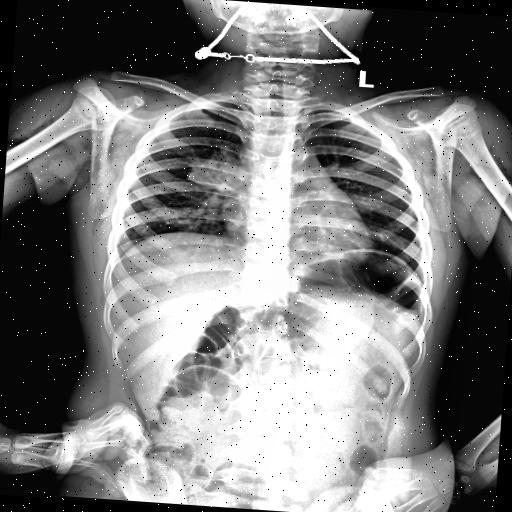4- Consolidation: (187, 144, 252, 188), (186, 146, 246, 193), (186, 146, 248, 190)
7- Lung Opacity: (187, 144, 252, 188), (186, 146, 248, 190)
